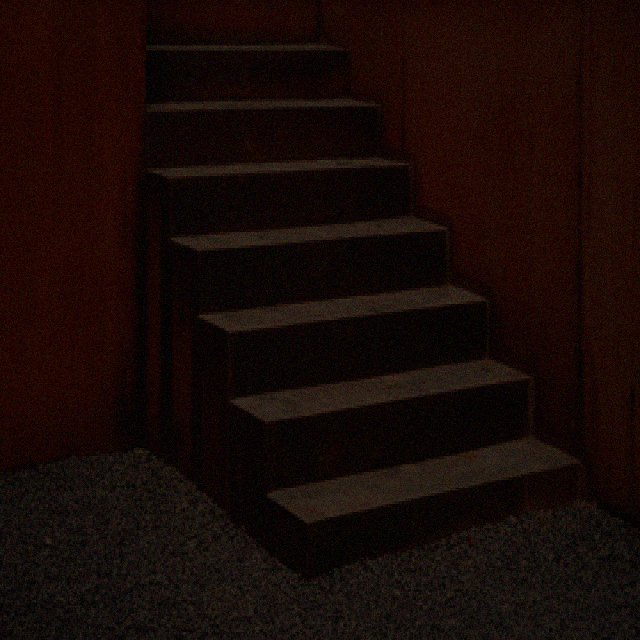stair: (146, 43, 579, 575)
